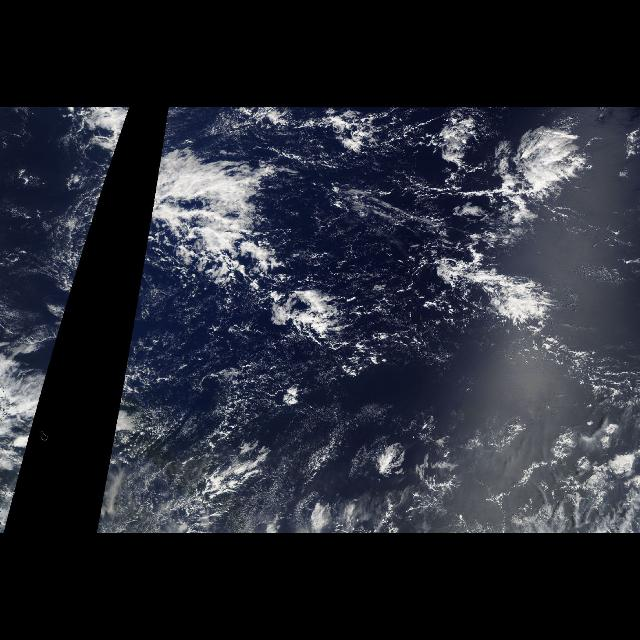Fish: (125, 143, 357, 370)
Gravel: (258, 118, 532, 366)
Sugar: (300, 136, 470, 364), (120, 284, 280, 436)
